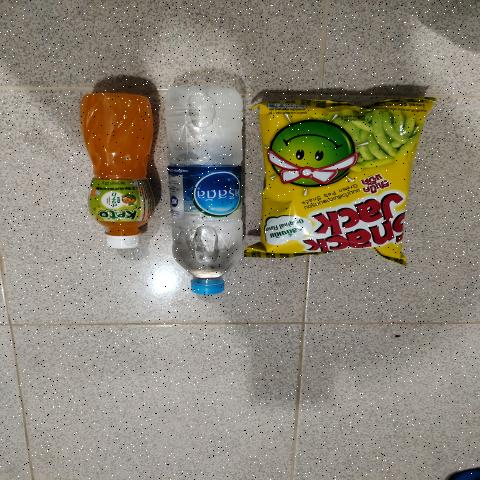crystal: (178, 85, 238, 275)
snack_jack: (260, 98, 408, 250)
